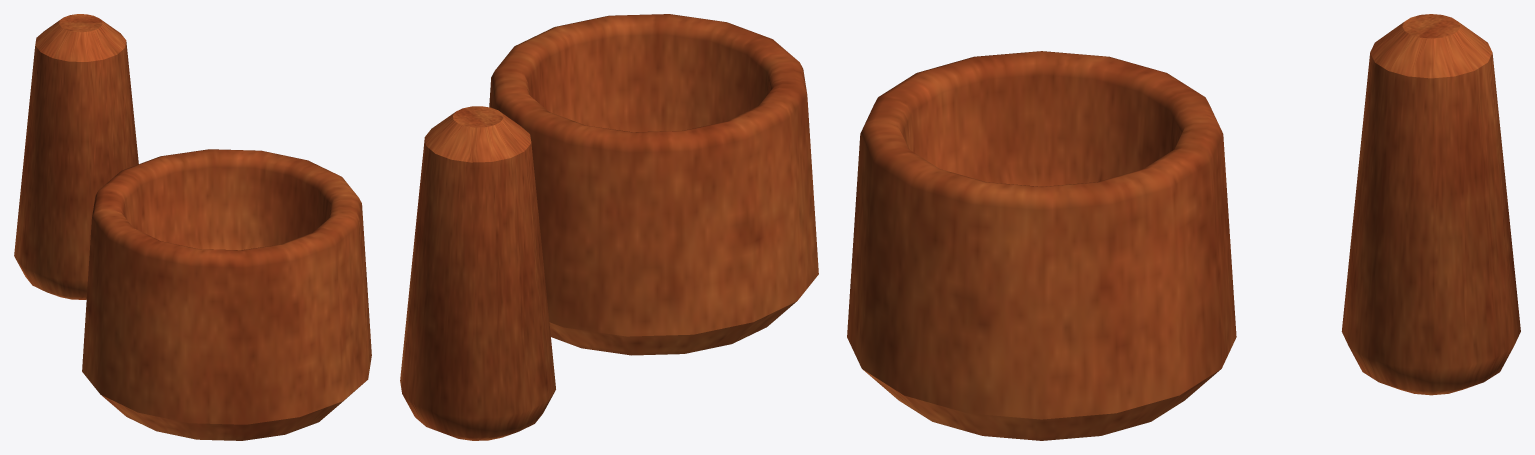
File: mortar.glb
3 views of the same model, side by side, from view 1: azimuth 30°, elevation 25°; view 2: azimuth 150°, elevation 25°; view 3: azimuth 270°, elevation 25° (orthographic). The views are drawn at different scales.
Parts seen in each view (by area): view 1: Object_26; view 2: Object_26; view 3: Object_26.
Boxes of the visible parts, x1,y1,x2,y2 form: Object_26: (14, 14, 371, 440); Object_26: (400, 14, 818, 440); Object_26: (847, 14, 1520, 440).
Size of the model in its own units: 0.2 by 0.1996 by 0.346.
1 material, 1 textured.
